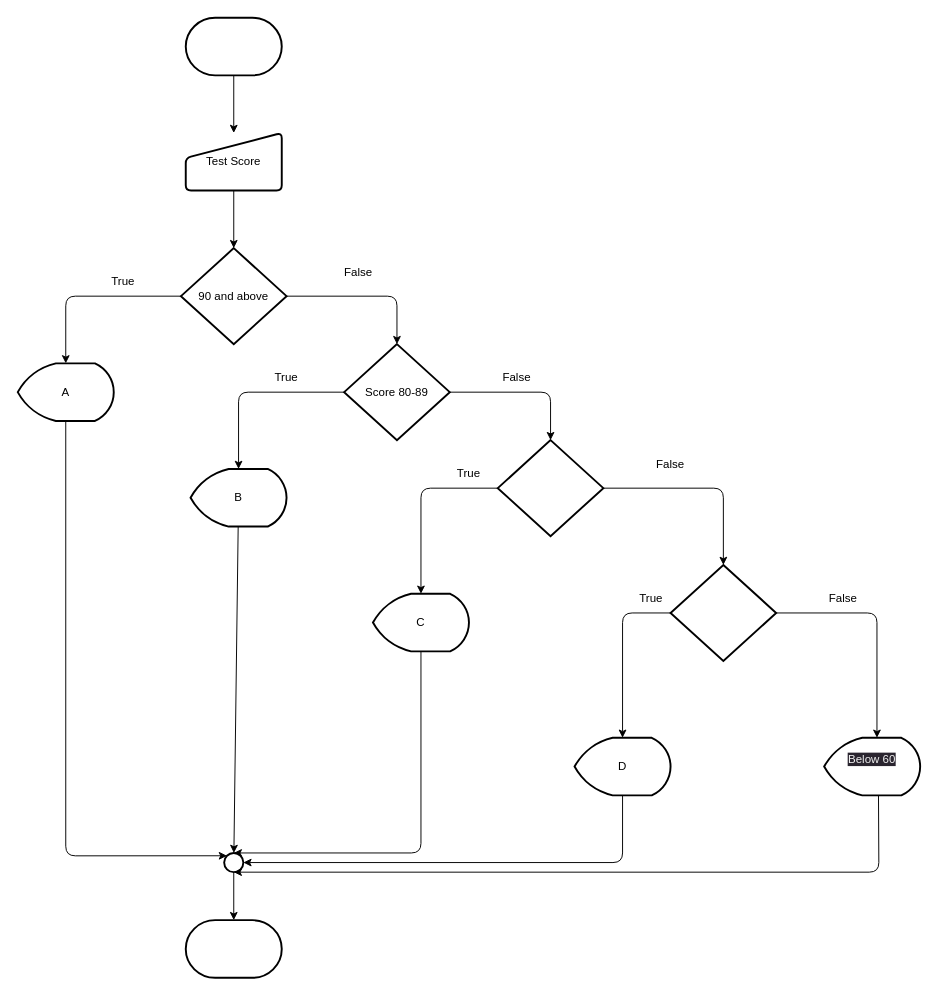
The diagram is 937 pixels wide and 995 high, and some of its shapes have lost their labels. Here are the shapes that lost their labels. From the top down, the centre of each, then its label:
point (233, 46): start
point (550, 488): Score 70-79
point (723, 612): Score 60-69
point (233, 948): End
